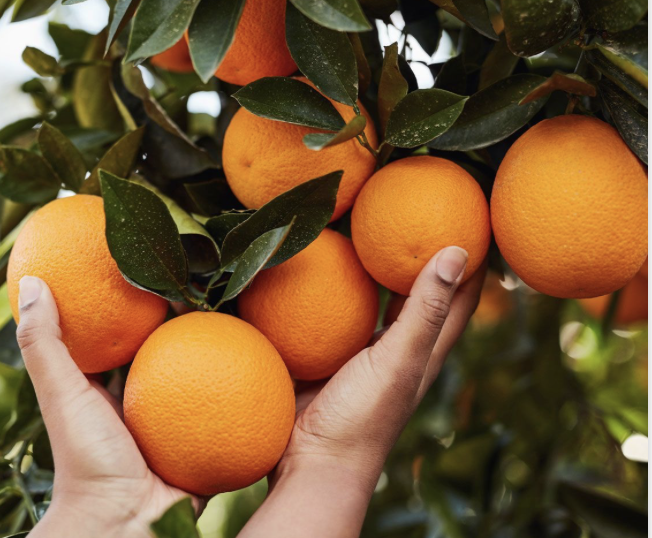orange: (106, 306, 308, 490), (465, 102, 646, 301), (344, 137, 498, 302)
